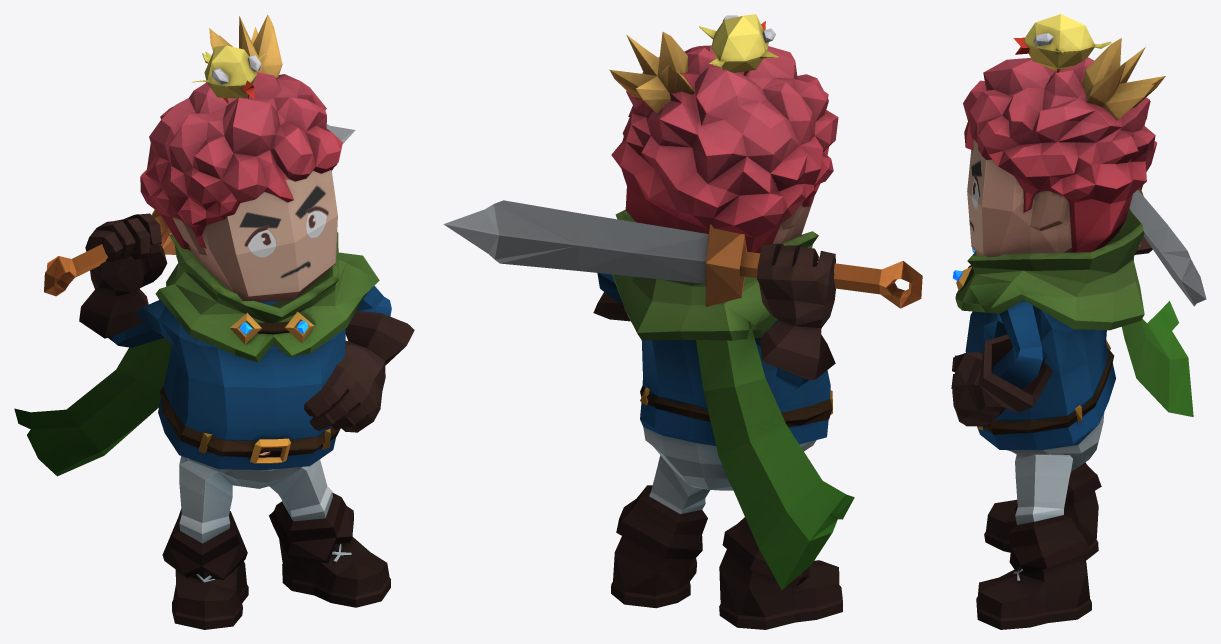
Rendered from avatar-lowpoly.glb.
The picture shows the model from 3 angles, left to right: view 1: azimuth 30°, elevation 25°; view 2: azimuth 150°, elevation 25°; view 3: azimuth 270°, elevation 25°; orthographic projection. The views are drawn at different scales.
Parts seen in each view (by area): view 1: SK_Lowpoly_Male_001_2_StaticMeshComponent0; view 2: SK_Lowpoly_Male_001_2_StaticMeshComponent0; view 3: SK_Lowpoly_Male_001_2_StaticMeshComponent0.
Part boxes in pixels (bbox=[...]): SK_Lowpoly_Male_001_2_StaticMeshComponent0: bbox=[14, 14, 414, 629]; SK_Lowpoly_Male_001_2_StaticMeshComponent0: bbox=[443, 14, 922, 629]; SK_Lowpoly_Male_001_2_StaticMeshComponent0: bbox=[951, 14, 1206, 629].
Bounding box in the file's own units: 1.14 × 1.6 × 0.6738.
Materials: 1 (1 with a texture image).
